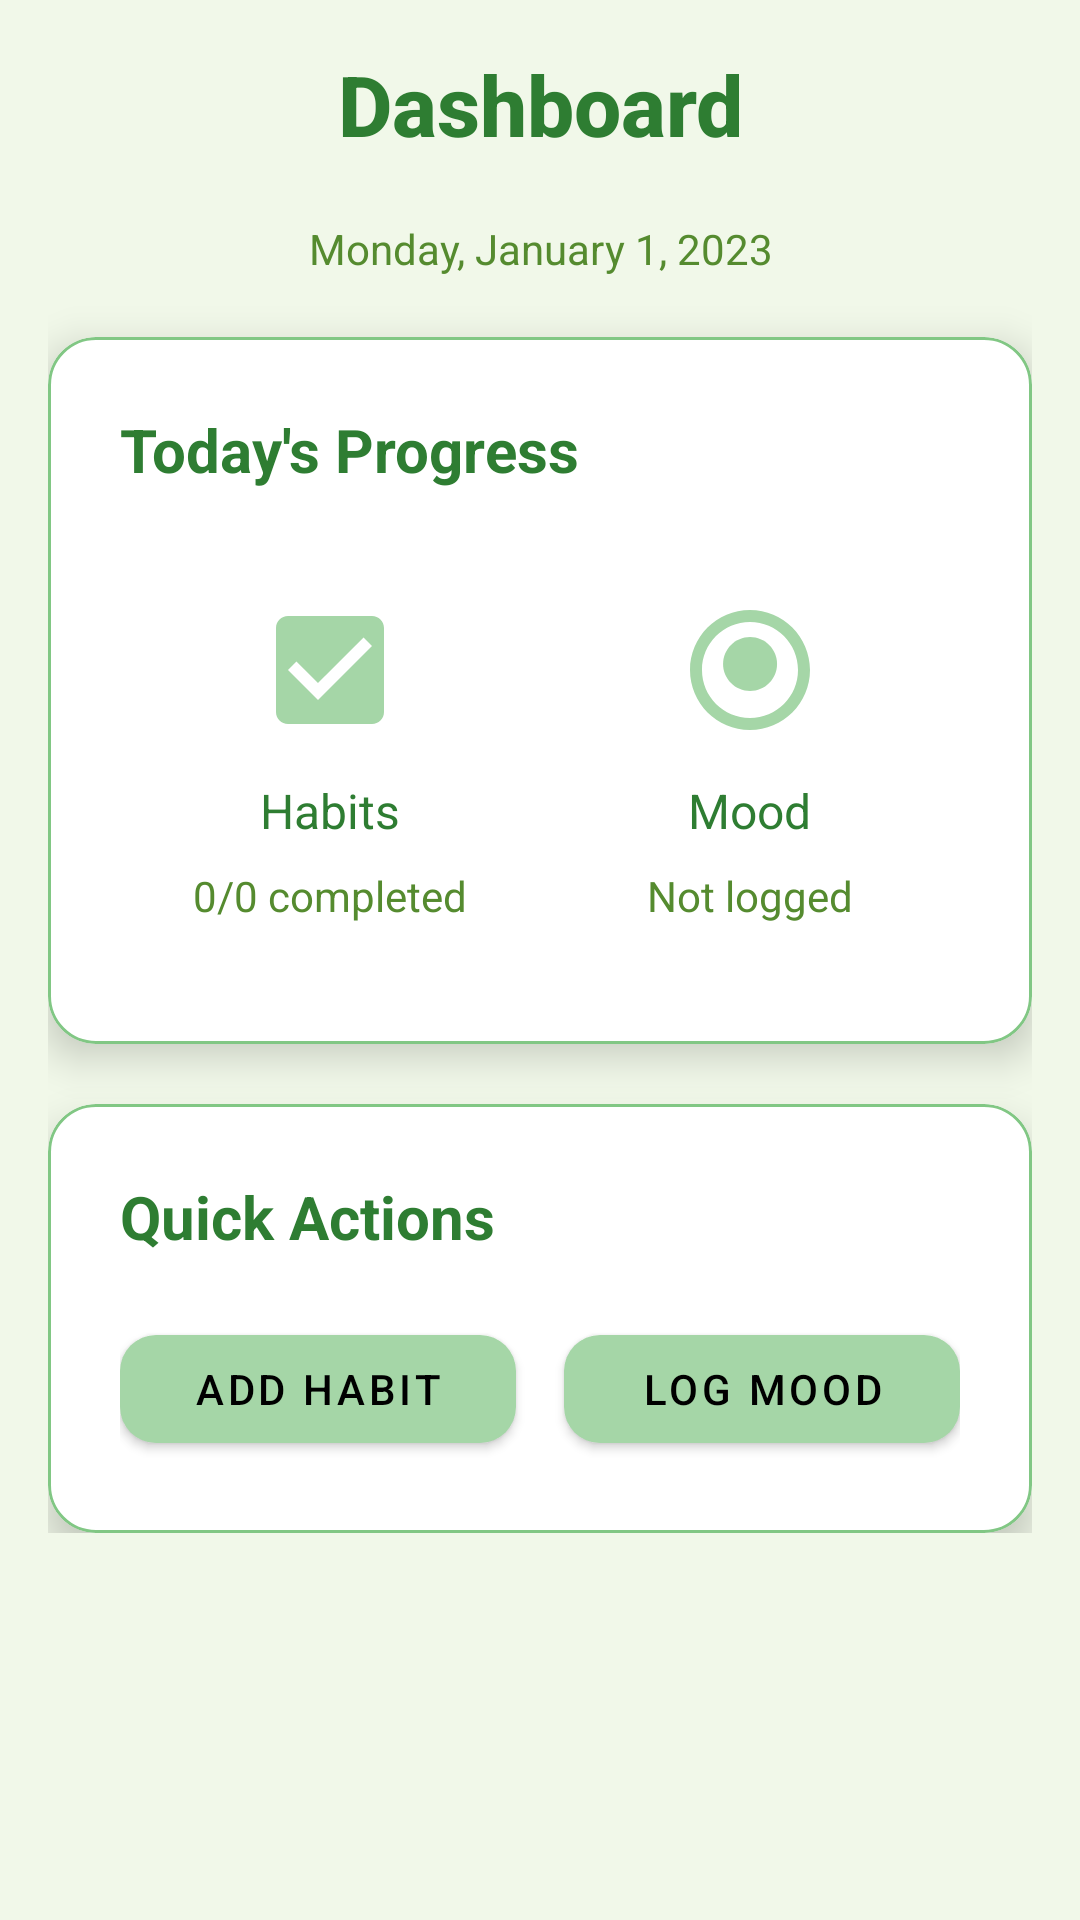

Point at icon controls on the screen. Image size 1080 x 1920, points as (x=x, y=y).
Habit icon: (x=330, y=670)
